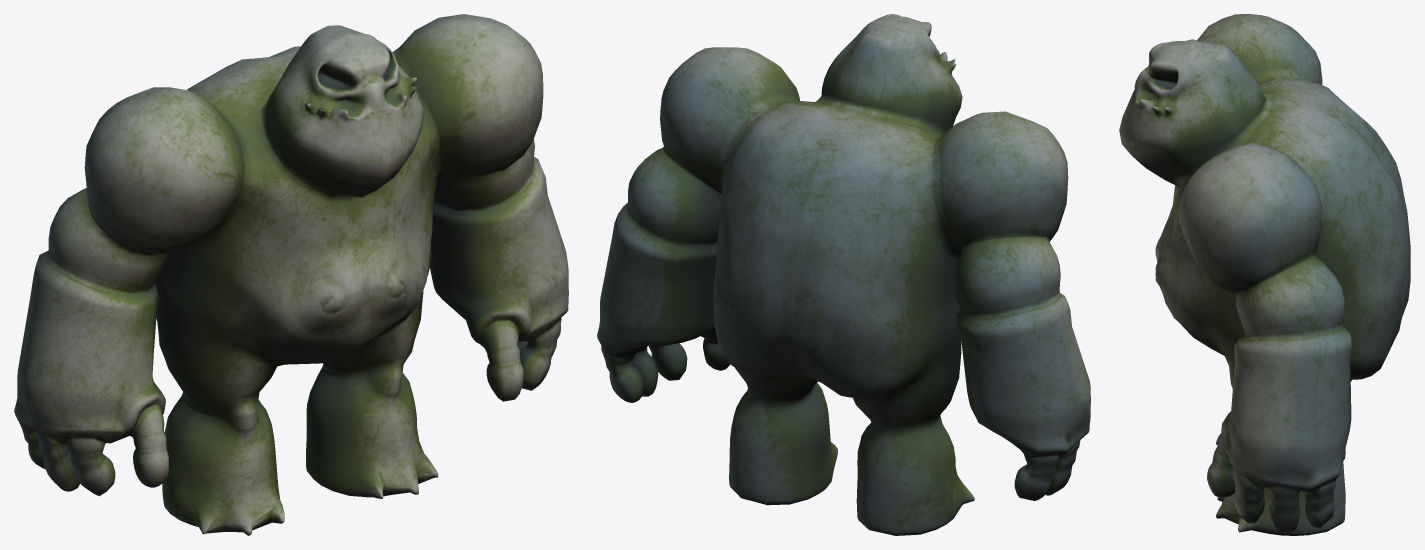
The model's file is Normal.fbx.
3 renders of one model, left to right at view 1: azimuth 30°, elevation 25°; view 2: azimuth 150°, elevation 25°; view 3: azimuth 270°, elevation 25°, orthographic. The views are drawn at different scales.
Parts seen in each view (by area): view 1: Normal; view 2: Normal; view 3: Normal.
Part boxes in pixels (x1,y1,x2,y2): Normal: (14,14,568,535); Normal: (597,14,1090,535); Normal: (1119,14,1410,535).
Bounding box in the file's own units: 11.58 × 10.23 × 6.1.
Materials: 1 (1 with a texture image).
